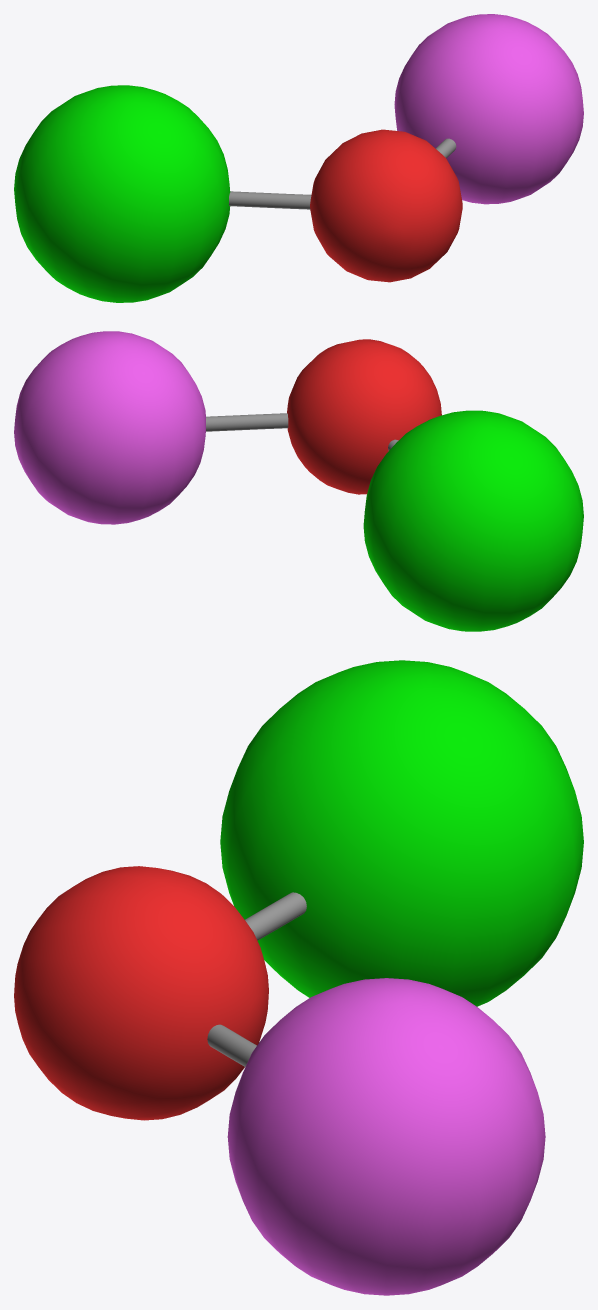
The model's file is LiClO.fbx.
3 views of the same model, one above another, from view 1: azimuth 30°, elevation 25°; view 2: azimuth 150°, elevation 25°; view 3: azimuth 270°, elevation 25° (orthographic). The views are drawn at different scales.
Visible parts, largest first — view 1: LiClO; view 2: LiClO; view 3: LiClO.
Boxes of the visible parts, x1,y1,x2,y2 form: LiClO: (14, 14, 583, 302); LiClO: (14, 331, 583, 631); LiClO: (14, 660, 583, 1295).
Bounding box in the file's own units: 7.51 × 2.63 × 4.12.
